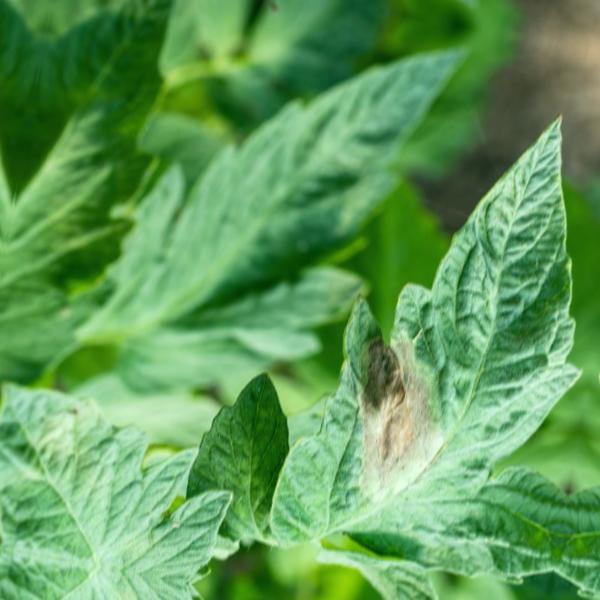Tomato leaf late blight: (247, 65, 600, 600), (0, 368, 246, 585)
